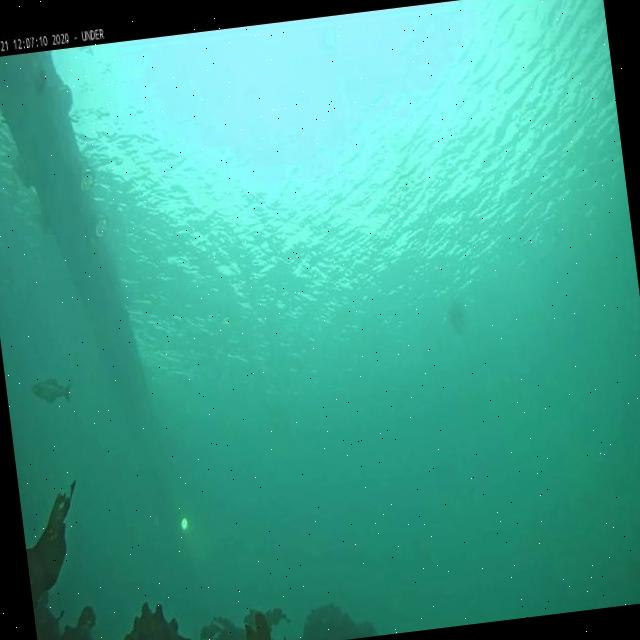fish: (28, 373, 72, 406)
